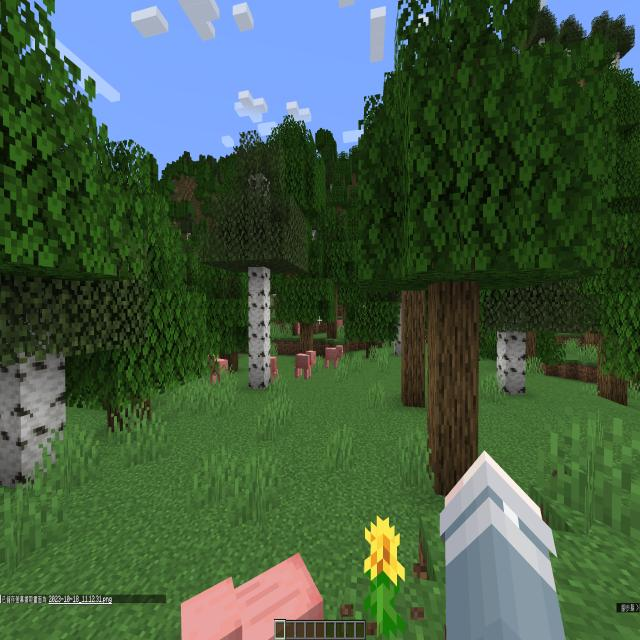pig: (175, 528, 329, 640), (204, 352, 232, 389), (293, 347, 317, 380), (322, 341, 343, 375), (270, 350, 278, 386), (334, 314, 344, 332)
